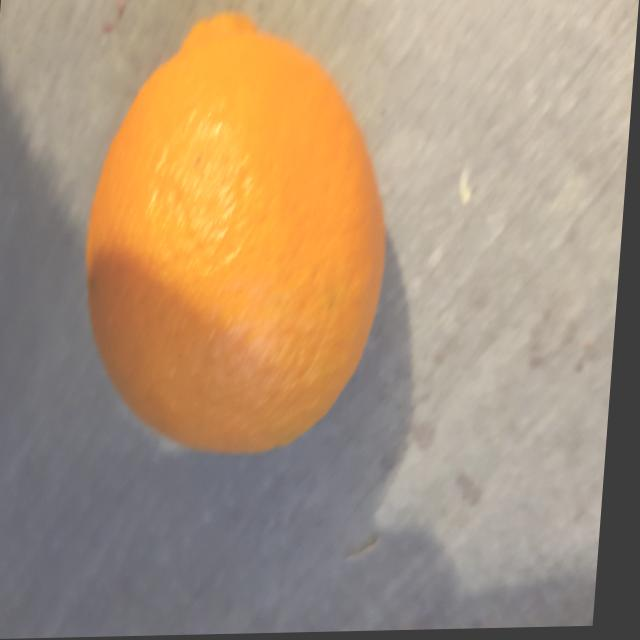Orange: (85, 11, 388, 457)
